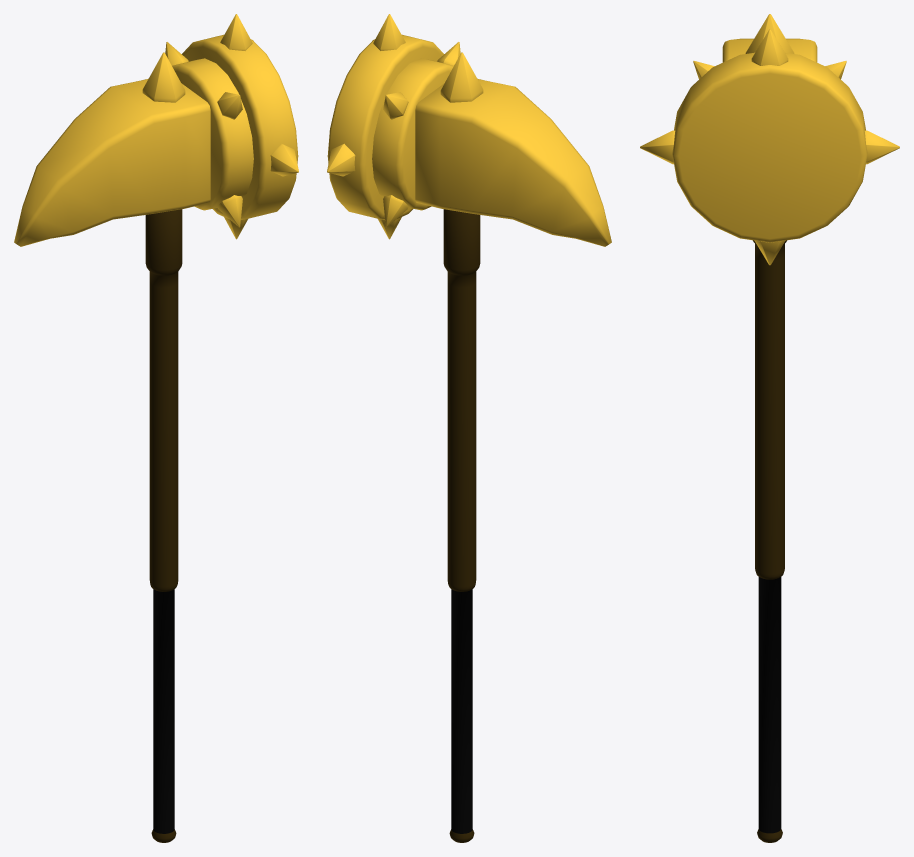
The model's file is TwoHand_Hammer_Gold.obj.
3 views of the same model, side by side, from view 1: azimuth 30°, elevation 25°; view 2: azimuth 150°, elevation 25°; view 3: azimuth 270°, elevation 25° (orthographic). The views are drawn at different scales.
Visible parts, largest first — view 1: TwoHand_Hammer_Gold_Cube.001; view 2: TwoHand_Hammer_Gold_Cube.001; view 3: TwoHand_Hammer_Gold_Cube.001.
Boxes of the visible parts, x1,y1,x2,y2 form: TwoHand_Hammer_Gold_Cube.001: (14,14,298,842); TwoHand_Hammer_Gold_Cube.001: (327,14,611,842); TwoHand_Hammer_Gold_Cube.001: (640,14,899,842).
Bounding box in the file's own units: 3.85 × 12.47 × 3.46.
